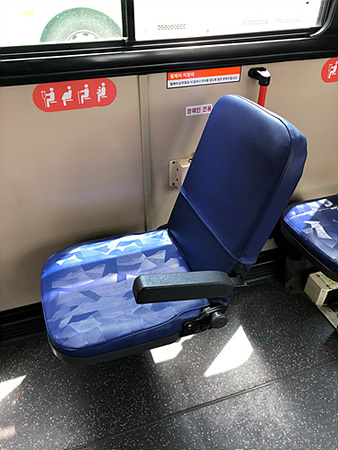seat: (42, 92, 308, 357)
